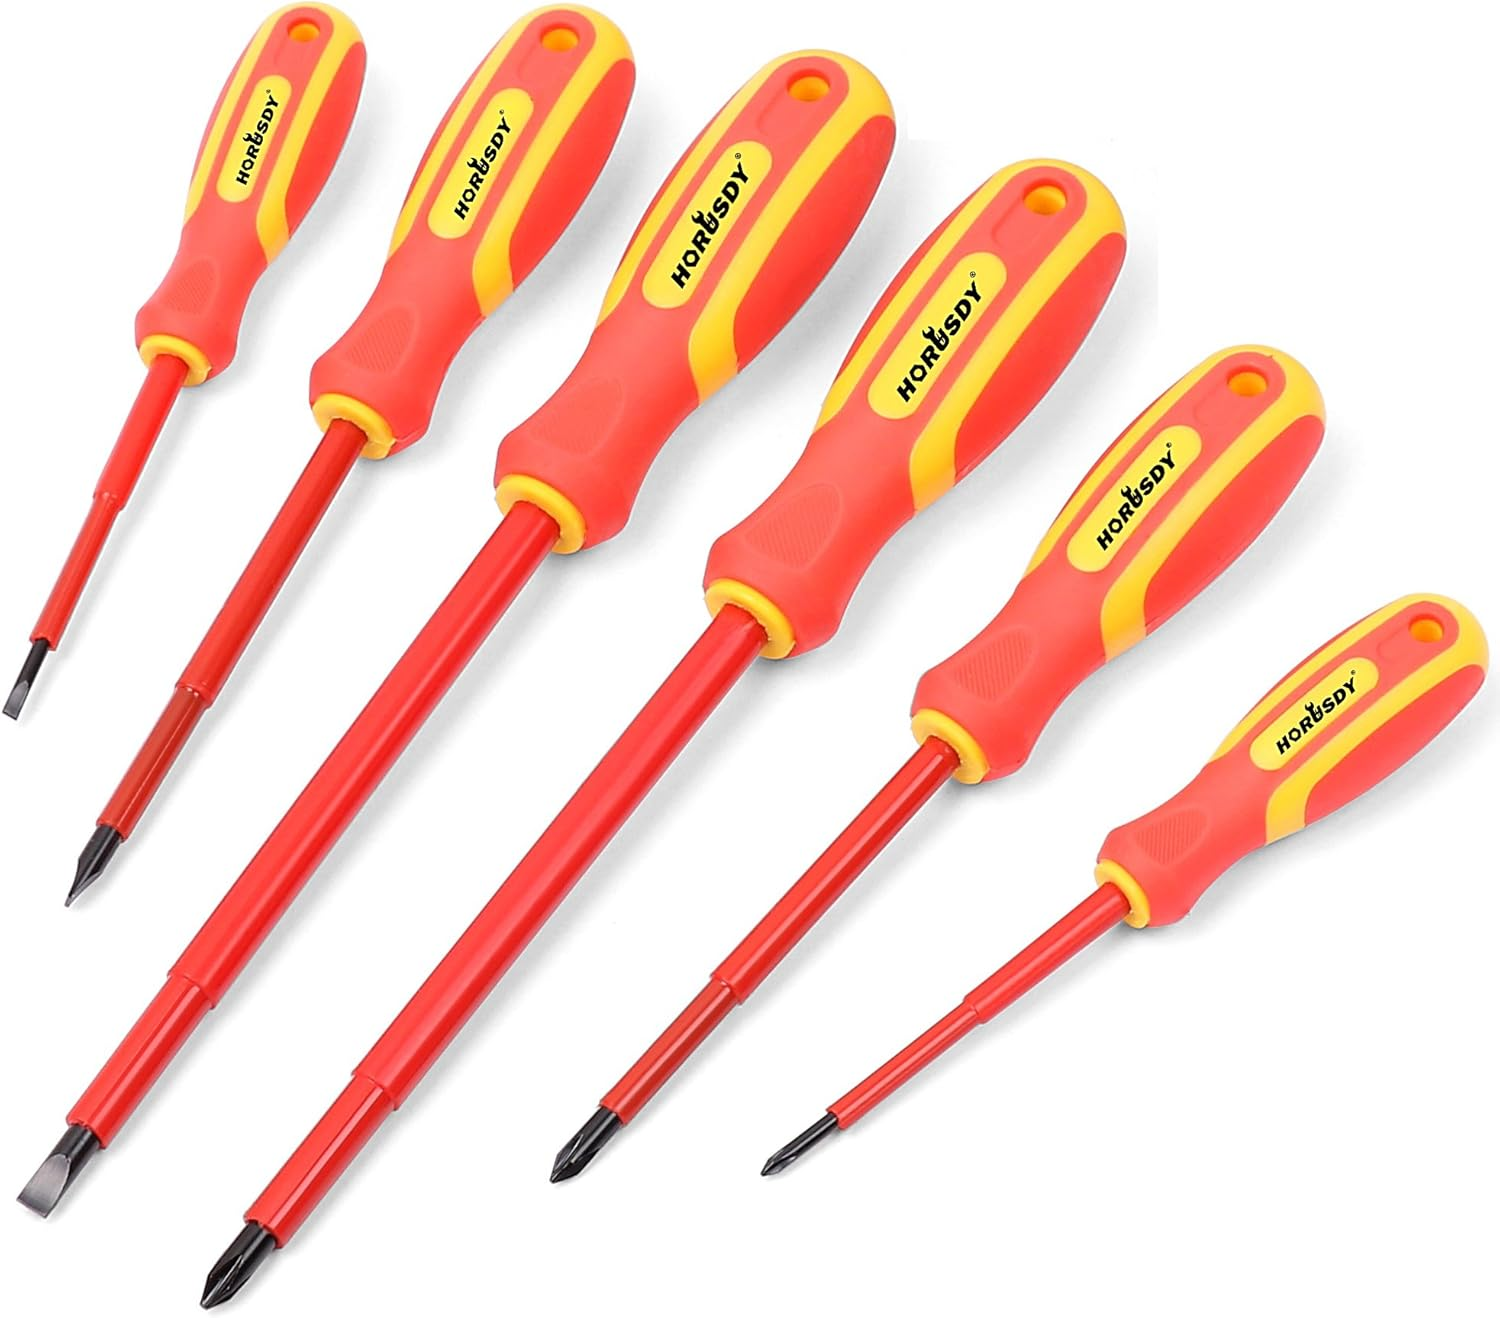screwdriver: (200, 159, 1128, 1310), (13, 47, 898, 1218), (548, 341, 1324, 1183), (64, 4, 634, 907), (760, 586, 1490, 1174), (1, 3, 370, 721)
